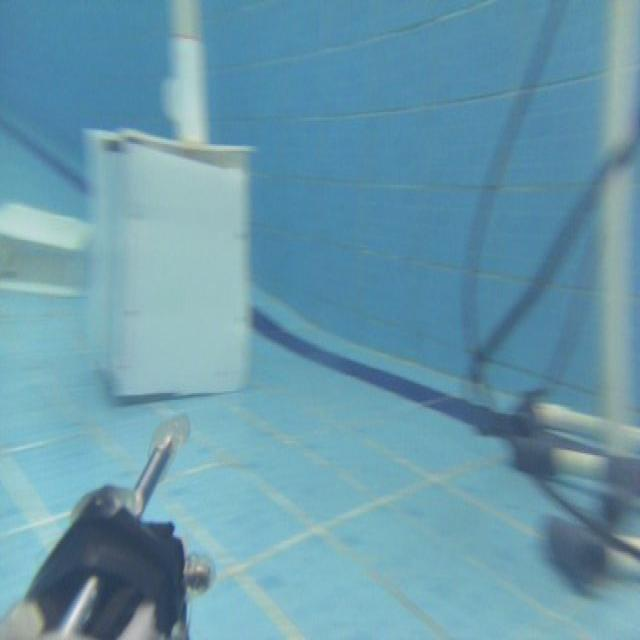Cube: (80, 121, 256, 405)
Cuboid: (0, 177, 90, 309)
